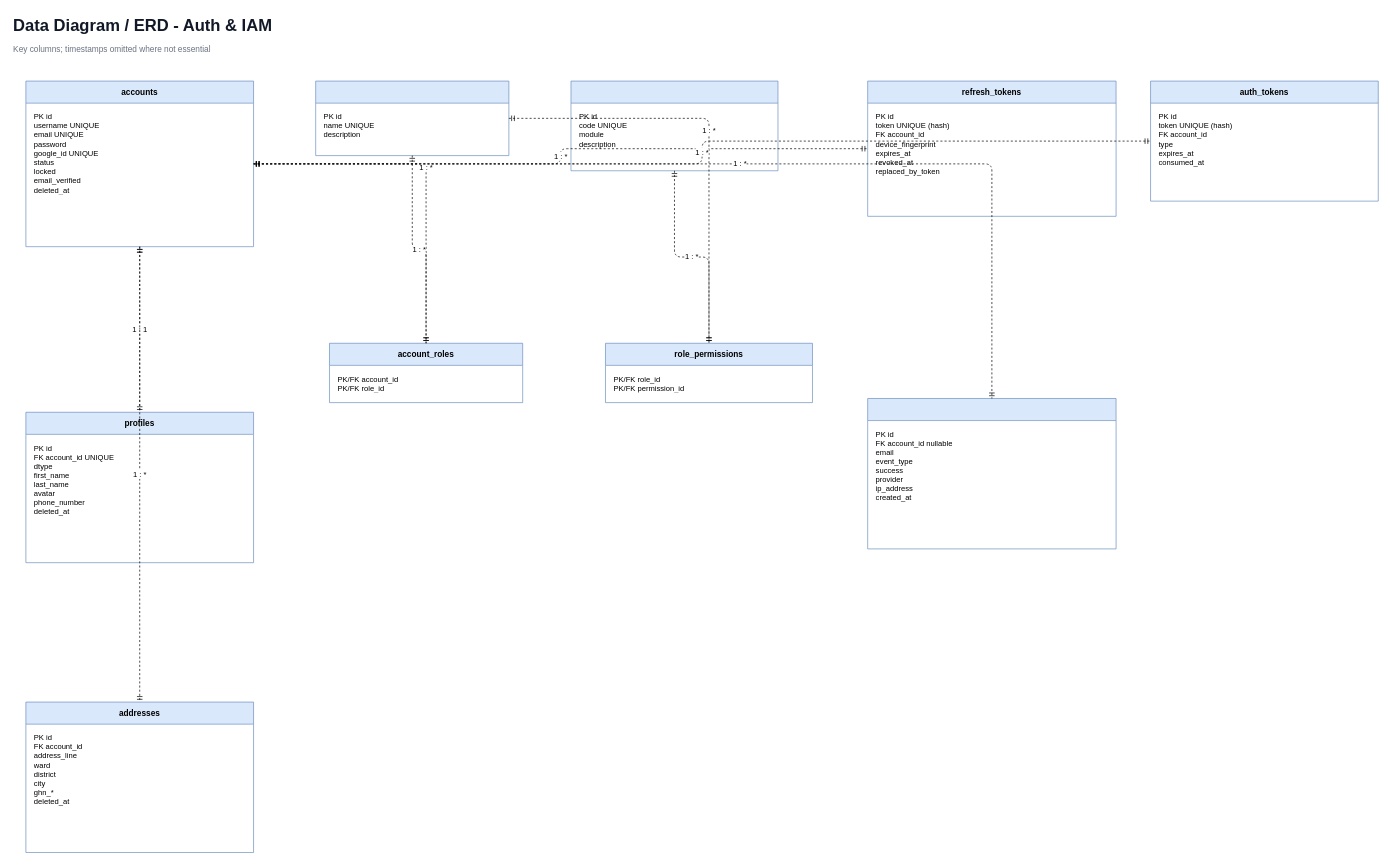
This 1390x866 diagram has some shape labels left out. The box of each missing label's shape, as (x1, y1, x2, y2) in pixels:
account_login_events: (867, 398, 1116, 549)
permissions: (570, 80, 778, 171)
roles: (315, 80, 509, 156)
